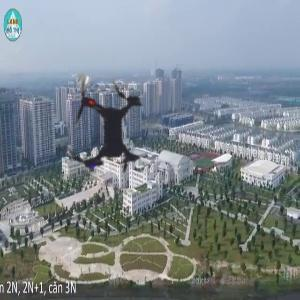drone: (21, 45, 189, 213)
